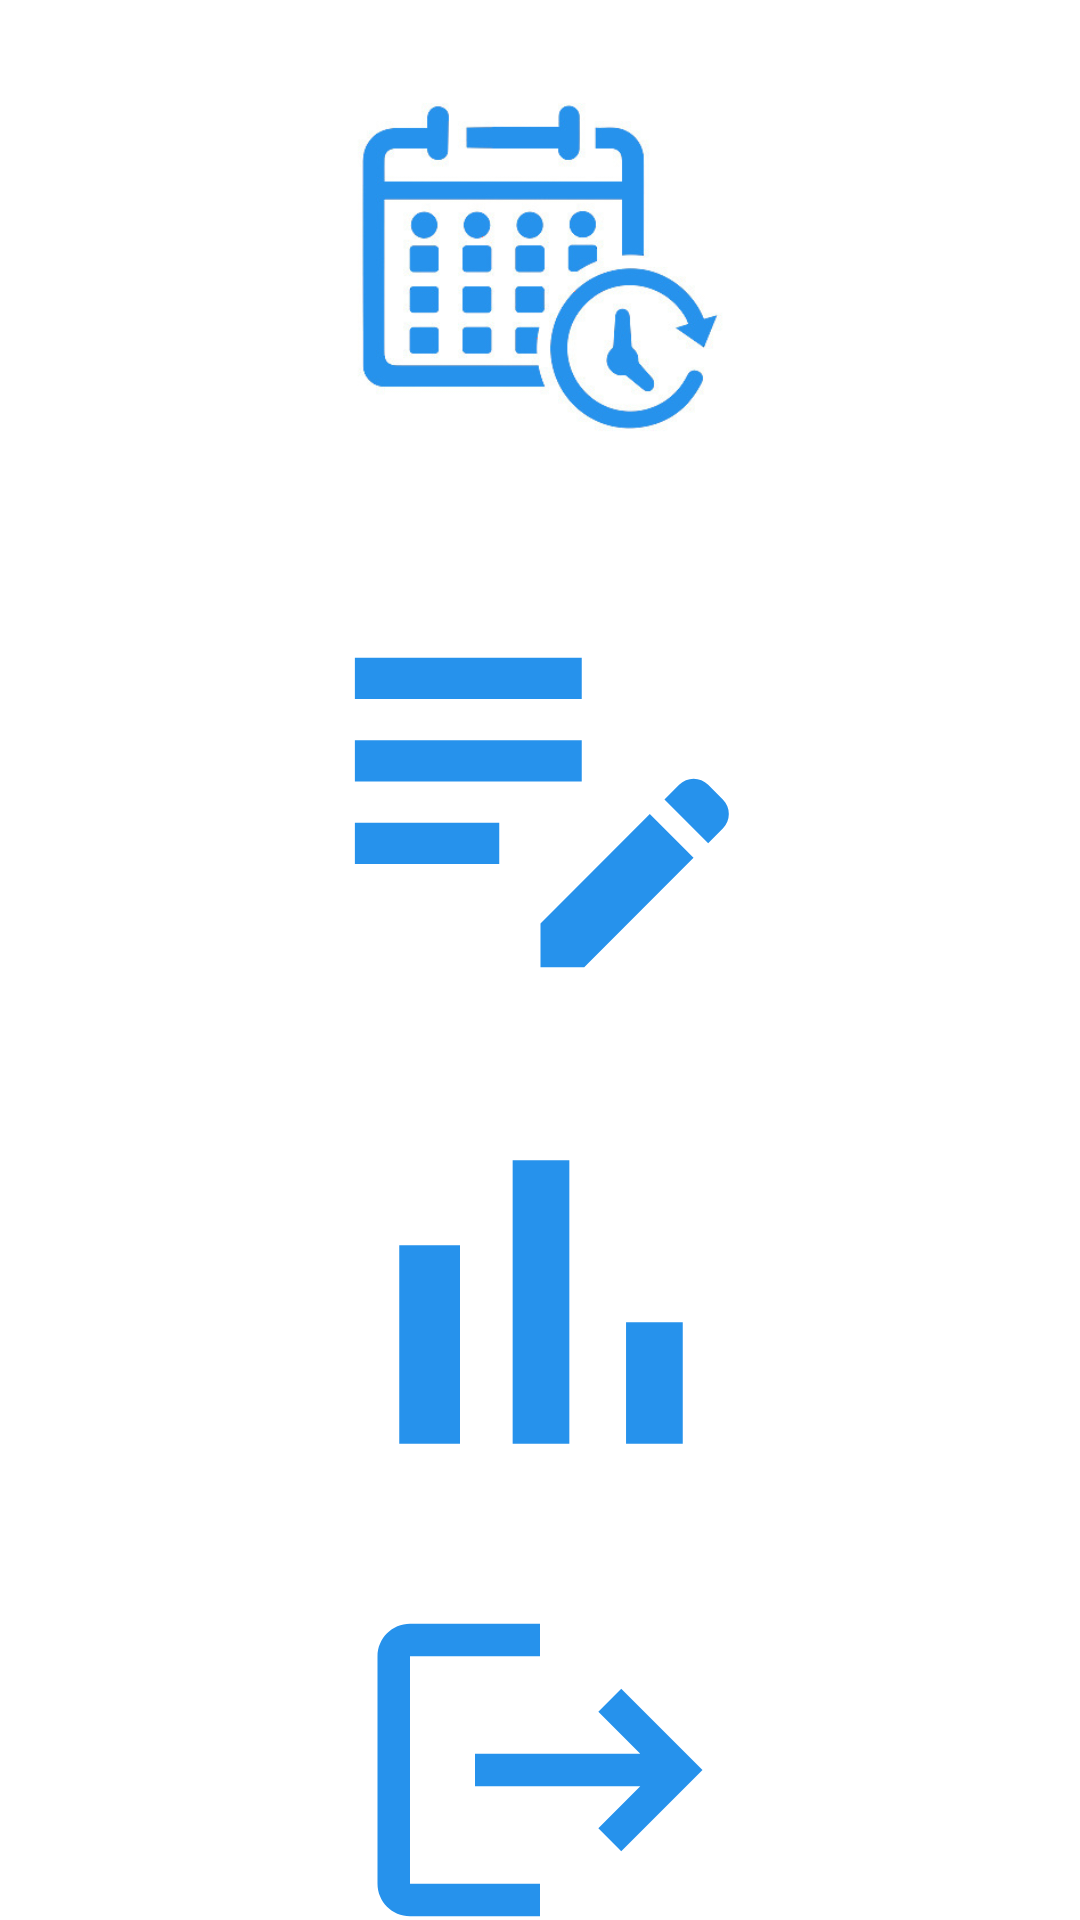

Locate icon controls on the screen. Image size 1080w x 1920h, boxes as box(x1, y1, x2, y2).
schedule: box(362, 105, 718, 429)
statistics: box(399, 1160, 683, 1444)
